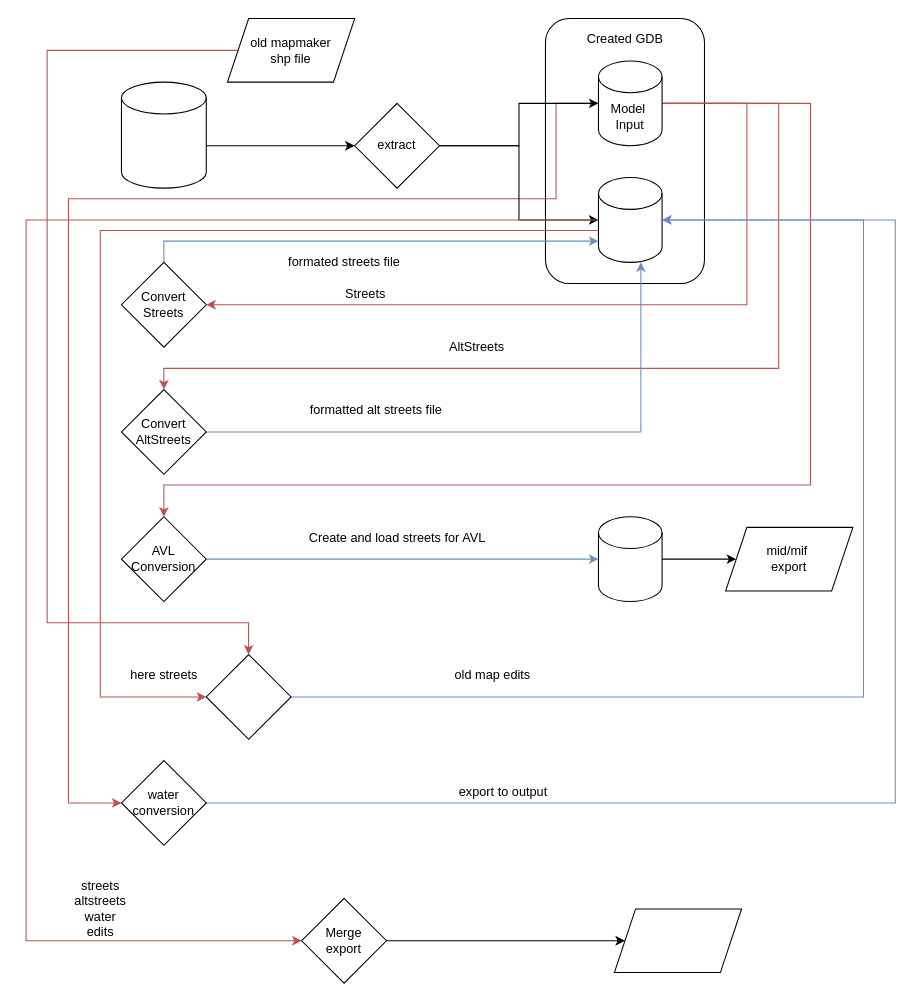
This 922x1002 diagram has some shape labels left out. Here are the shapes that lost their labels. From the top down, the centre of each, then its label:
At pixel 163 134: "HERE data shp files".
At pixel 629 219: "Model Output".
At pixel 629 559: "AVL.gdb".
At pixel 248 696: "Find Edits".
At pixel 677 940: "mapmaker shpfile".
